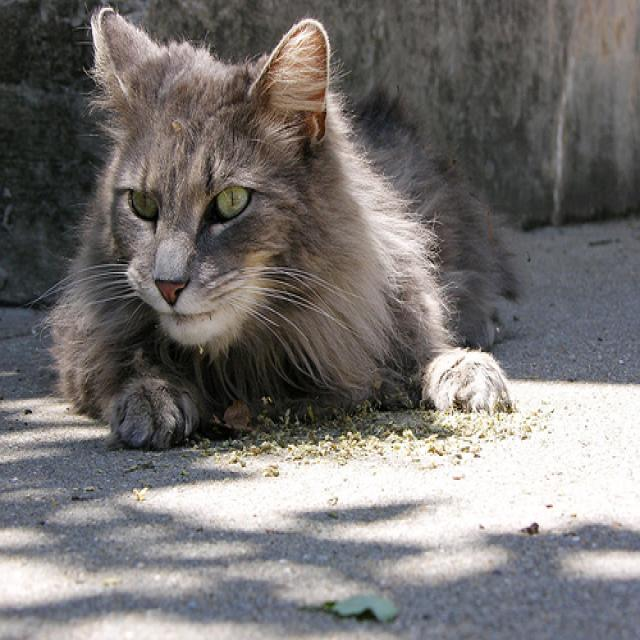left eye: (206, 181, 254, 224)
